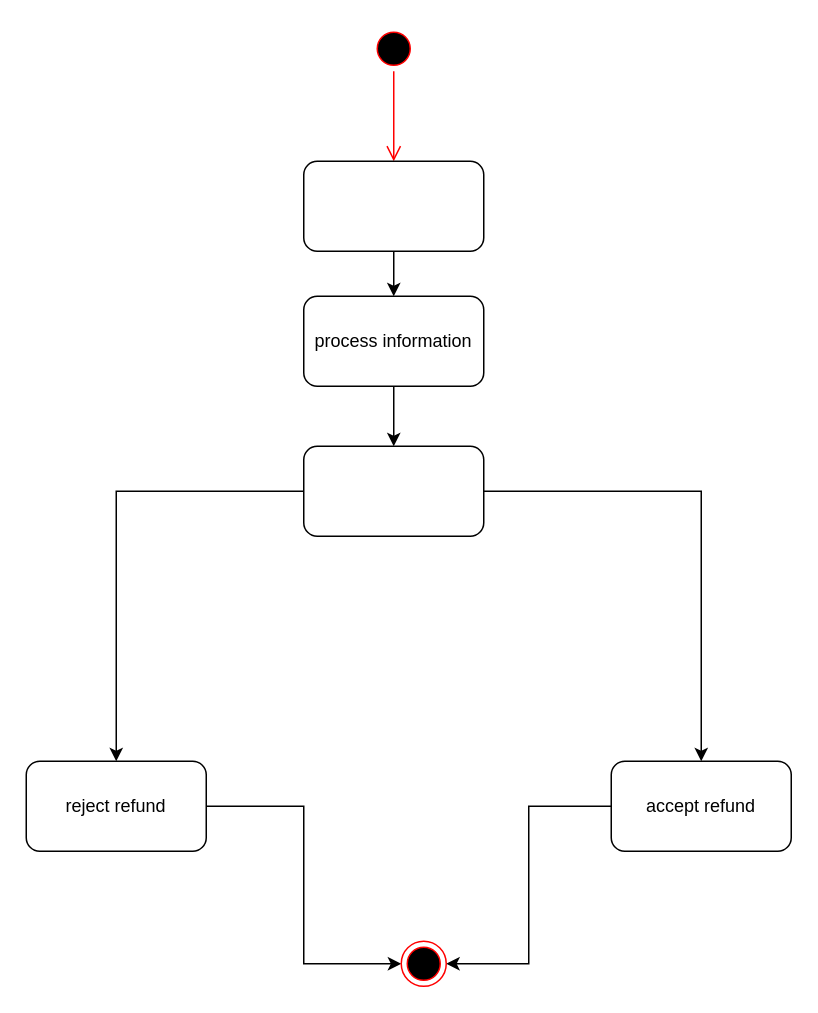
The diagram is 818 pixels wide and 1013 high, and some of its shapes have lost their labels. Here are the shapes that lost their labels. From the top down, the box of each, then its label:
(302, 160, 484, 251): request refund with complaint
(302, 445, 484, 536): verifies information with freelancer
